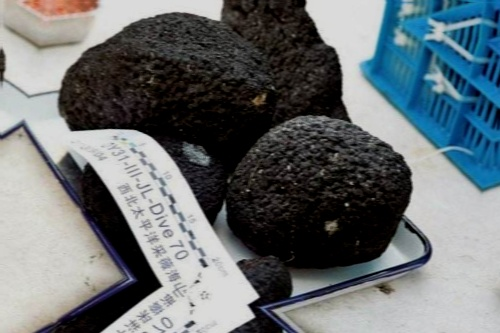halobolite: (59, 13, 274, 161), (230, 109, 409, 273), (84, 132, 227, 251), (215, 1, 347, 127), (225, 251, 304, 310)
